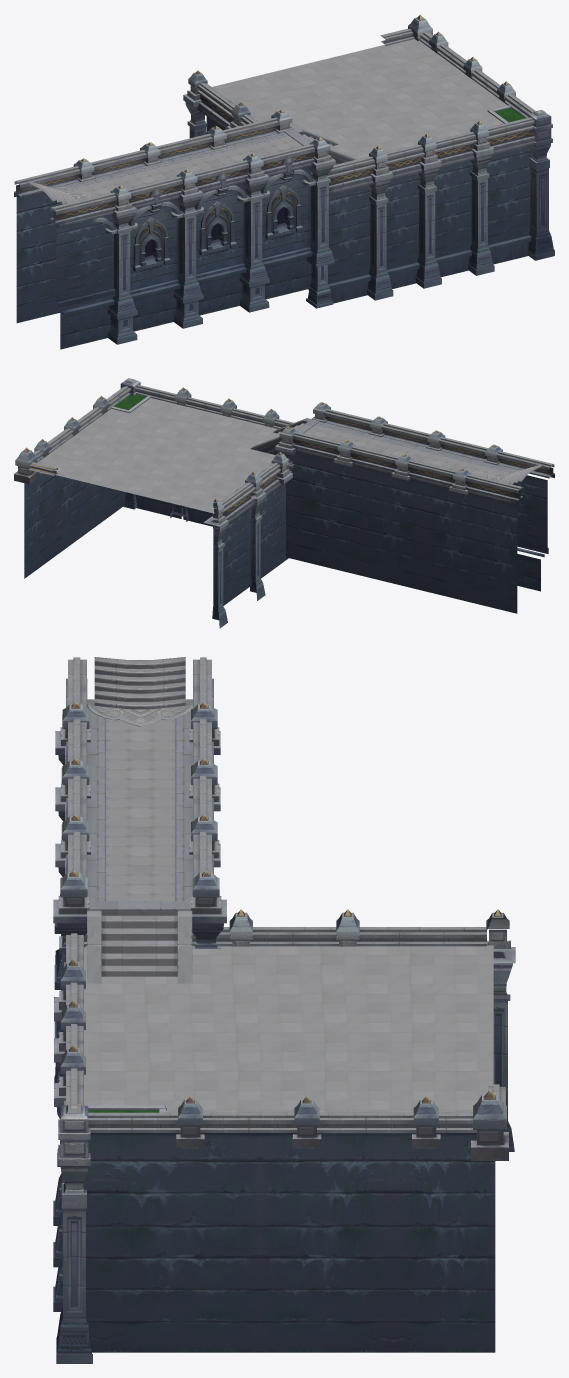
The model's file is zhuchengjianzhu_3.FBX.
The picture shows the model from 3 angles, top to bottom: view 1: azimuth 30°, elevation 25°; view 2: azimuth 150°, elevation 25°; view 3: azimuth 270°, elevation 25°; orthographic projection. The views are drawn at different scales.
Visible parts, largest first — view 1: zhucheng_y, zhucheng_qiangti02, zhucheng_dimian01, zhucheng_qiangti03, zhucheng_dimian02, zhucheng_taijie01; view 2: zhucheng_qiangti03, zhucheng_qiangti02, zhucheng_dimian01, zhucheng_y, zhucheng_dimian02, zhucheng_taijie01; view 3: zhucheng_qiangti02, zhucheng_dimian01, zhucheng_y, zhucheng_dimian02, zhucheng_taijie01.
Part boxes in pixels (<box>): zhucheng_y: <box>14,109,335,349</box>; zhucheng_qiangti02: <box>183,14,554,308</box>; zhucheng_dimian01: <box>212,39,507,159</box>; zhucheng_qiangti03: <box>16,189,245,323</box>; zhucheng_dimian02: <box>63,135,302,204</box>; zhucheng_taijie01: <box>284,105,510,164</box>; zhucheng_qiangti03: <box>286,451,517,613</box>; zhucheng_qiangti02: <box>14,378,293,628</box>; zhucheng_dimian01: <box>37,398,277,513</box>; zhucheng_y: <box>275,402,554,591</box>; zhucheng_dimian02: <box>304,425,512,484</box>; zhucheng_taijie01: <box>111,396,319,454</box>; zhucheng_qiangti02: <box>53,909,515,1363</box>; zhucheng_dimian01: <box>84,945,493,1112</box>; zhucheng_y: <box>53,657,226,1082</box>; zhucheng_dimian02: <box>106,718,175,901</box>; zhucheng_taijie01: <box>84,901,192,1112</box>.
Bounding box in the file's own units: 2078 × 966 × 689.
